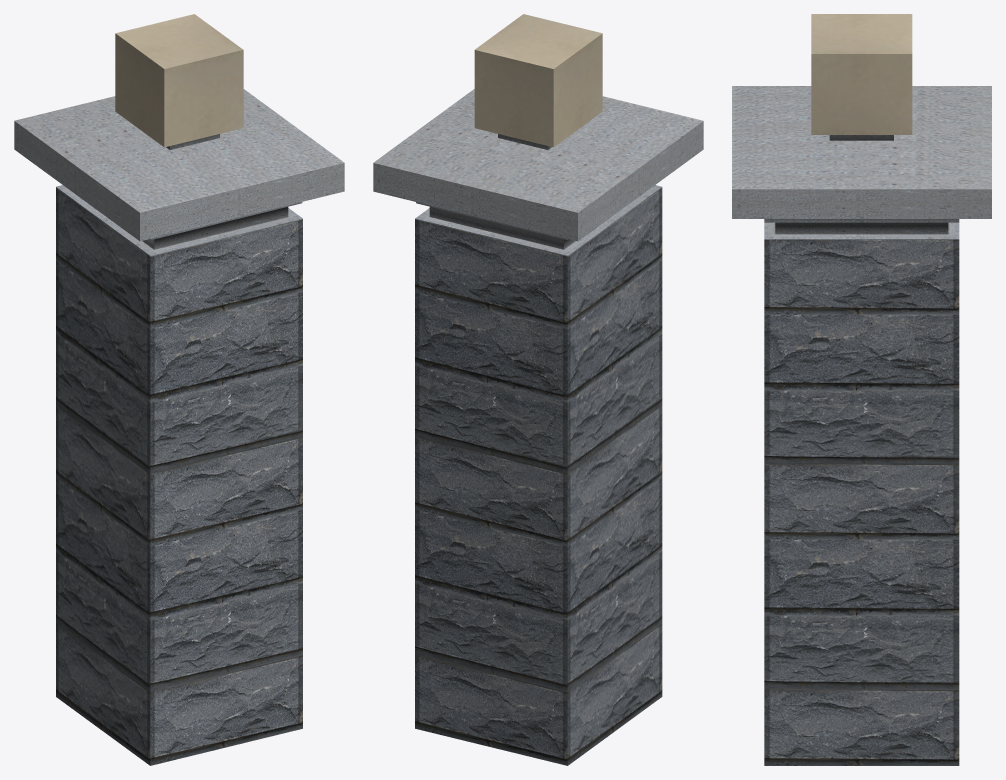
Rendered from Building_Menwei_Enterence.FBX.
The picture shows the model from 3 angles, left to right: view 1: azimuth 30°, elevation 25°; view 2: azimuth 150°, elevation 25°; view 3: azimuth 270°, elevation 25°; orthographic projection. The views are drawn at different scales.
Parts seen in each view (by area): view 1: Building_Enterence; view 2: Building_Enterence; view 3: Building_Enterence.
Boxes of the visible parts, x1,y1,x2,y2 form: Building_Enterence: (14, 14, 344, 765); Building_Enterence: (373, 14, 703, 765); Building_Enterence: (732, 14, 991, 765).
Bounding box in the file's own units: 86.96 × 272 × 92.45.
